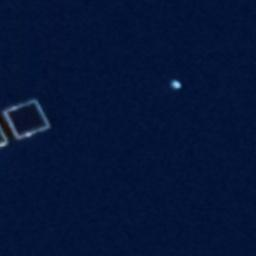square_solid: (1, 93, 51, 143)
